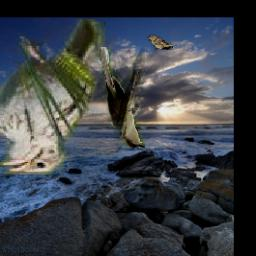Cuckoo: (99, 48, 145, 149)
Sparrow: (0, 19, 105, 175), (148, 35, 174, 50)
